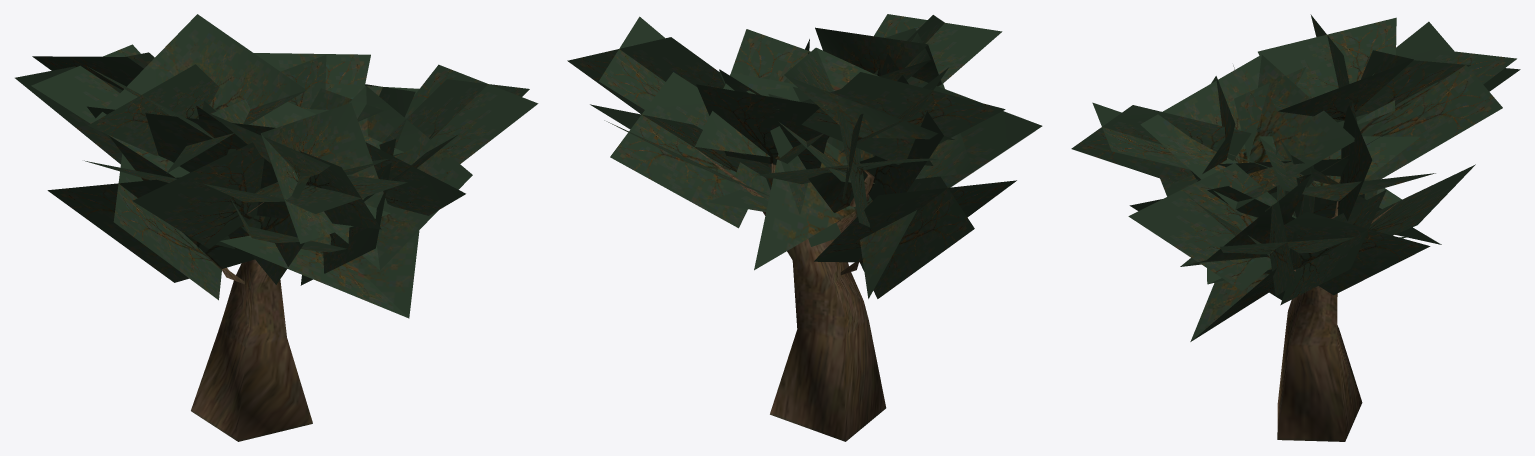
Rendered from decd_oaktreebranches_l2.fbx.
The picture shows the model from 3 angles, left to right: view 1: azimuth 30°, elevation 25°; view 2: azimuth 150°, elevation 25°; view 3: azimuth 270°, elevation 25°; orthographic projection. The views are drawn at different scales.
Parts seen in each view (by area): view 1: mesh_node; view 2: mesh_node; view 3: mesh_node.
Part boxes in pixels (x1=…): mesh_node: x1=15, y1=14, x2=538, y2=441; mesh_node: x1=567, y1=14, x2=1042, y2=441; mesh_node: x1=1071, y1=14, x2=1520, y2=441.
Size of the model in its own units: 26.68 by 21.38 by 24.28.
